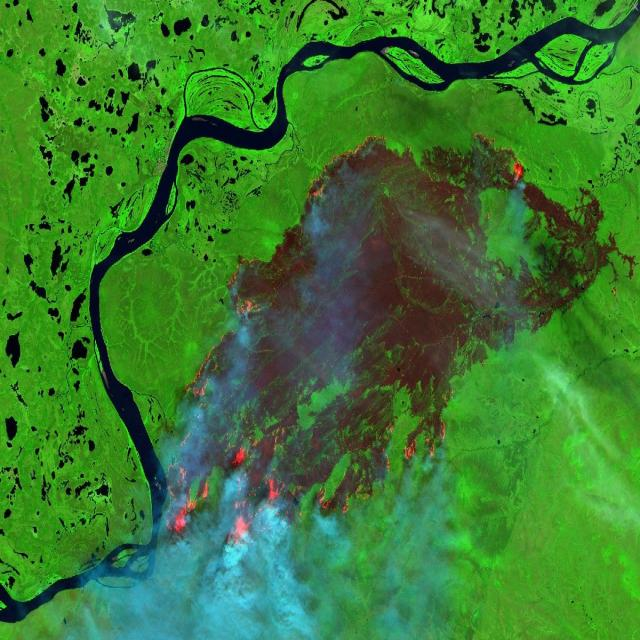fire: (158, 129, 526, 577)
